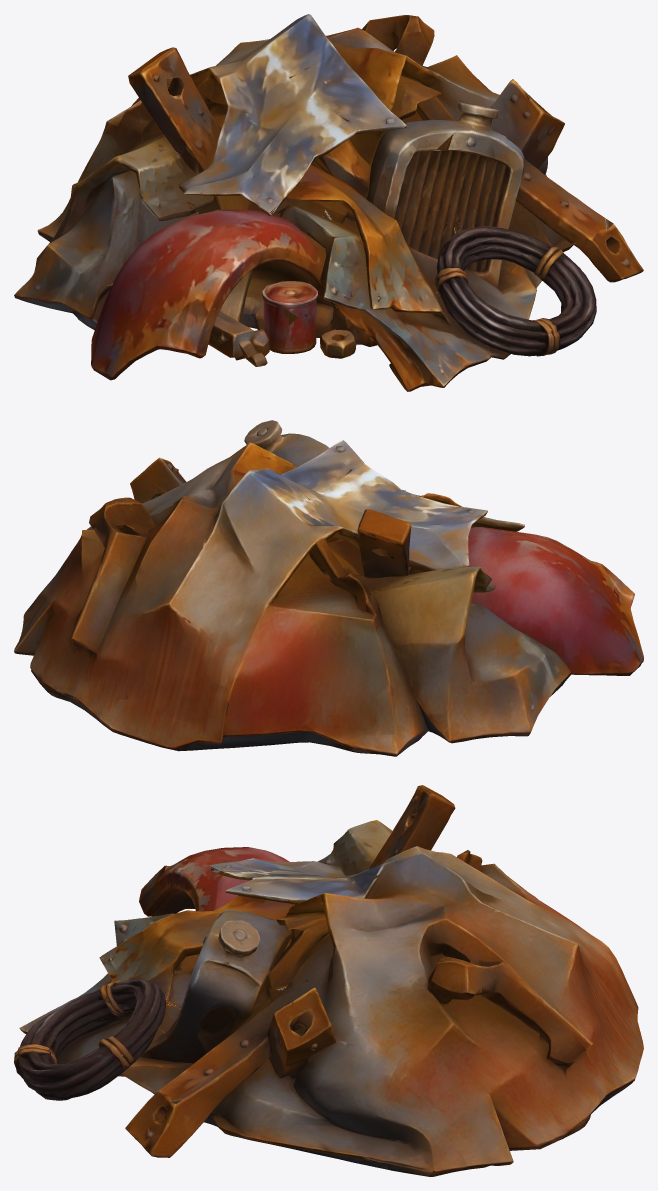
Rendered from scrap-pile.glb.
The picture shows the model from 3 angles, top to bottom: view 1: azimuth 30°, elevation 25°; view 2: azimuth 150°, elevation 25°; view 3: azimuth 270°, elevation 25°; orthographic projection. The views are drawn at different scales.
Parts seen in each view (by area): view 1: SM_ScrapPile; view 2: SM_ScrapPile; view 3: SM_ScrapPile.
Part boxes in pixels (x1,y1,x2,y2): SM_ScrapPile: (14,14,643,391); SM_ScrapPile: (14,420,643,756); SM_ScrapPile: (14,785,643,1176).
Bounding box in the file's own units: 1.9 × 0.7408 × 1.89.
Materials: 1 (1 with a texture image).
